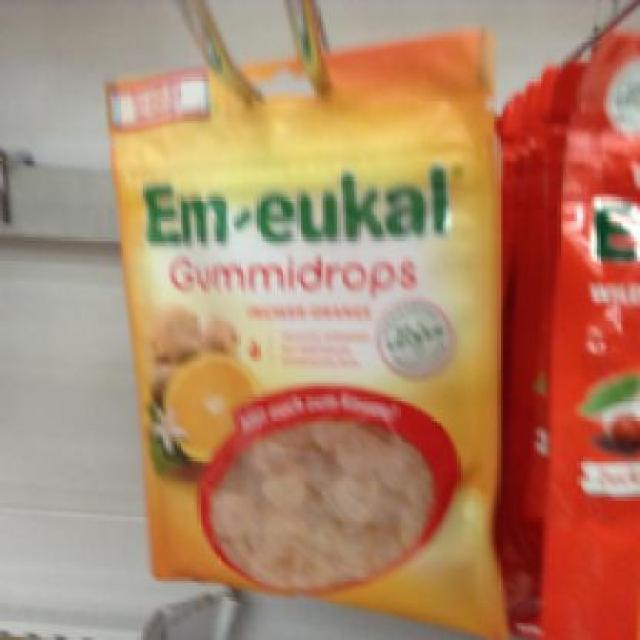Candy: (99, 68, 492, 618)
